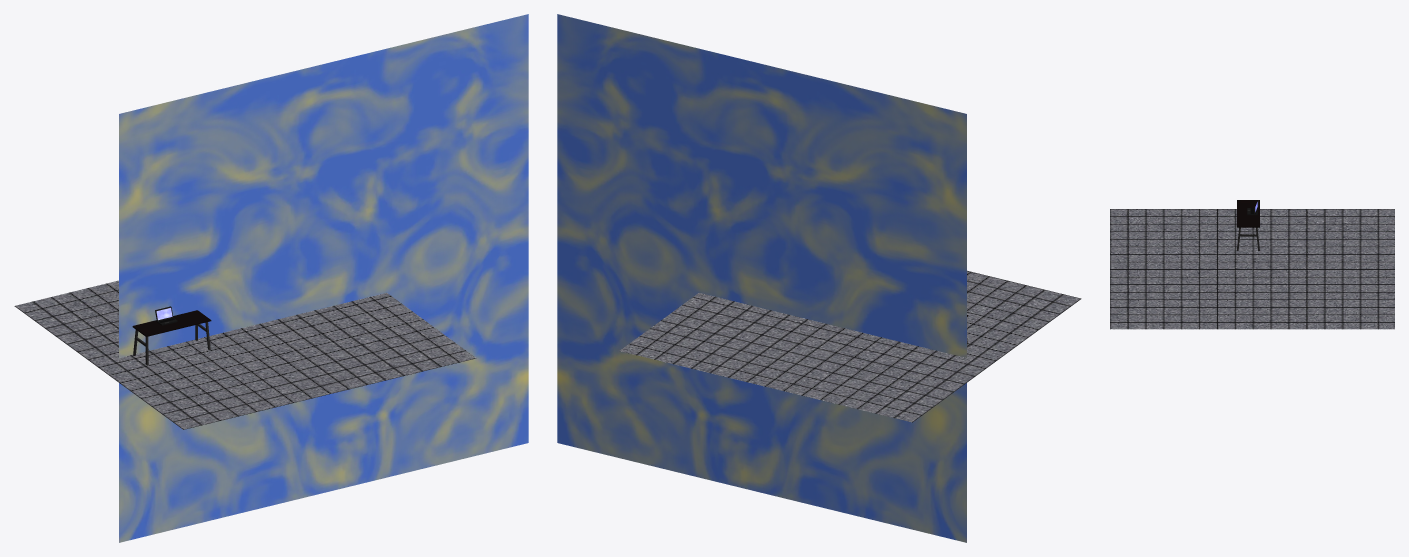
Rendered from low_poly_laptop_computer.glb.
3 renders of one model, left to right at view 1: azimuth 30°, elevation 25°; view 2: azimuth 150°, elevation 25°; view 3: azimuth 270°, elevation 25°, orthographic. The views are drawn at different scales.
Parts seen in each view (by area): view 1: Pared_3, Piso_2, Mesa_1; view 2: Pared_3, Piso_2; view 3: Piso_2, Mesa_1.
Boxes of the visible parts, left/top/right/bottom form: Pared_3: left=119, top=14, right=528, bottom=542; Piso_2: left=14, top=280, right=476, bottom=429; Mesa_1: left=132, top=310, right=211, bottom=365; Pared_3: left=557, top=14, right=966, bottom=542; Piso_2: left=620, top=270, right=1081, bottom=422; Piso_2: left=1110, top=209, right=1394, bottom=329; Mesa_1: left=1236, top=200, right=1259, bottom=250.
Size of the model in its own units: 82.62 by 77.86 by 55.69.
Materials: 8 (5 with a texture image).
